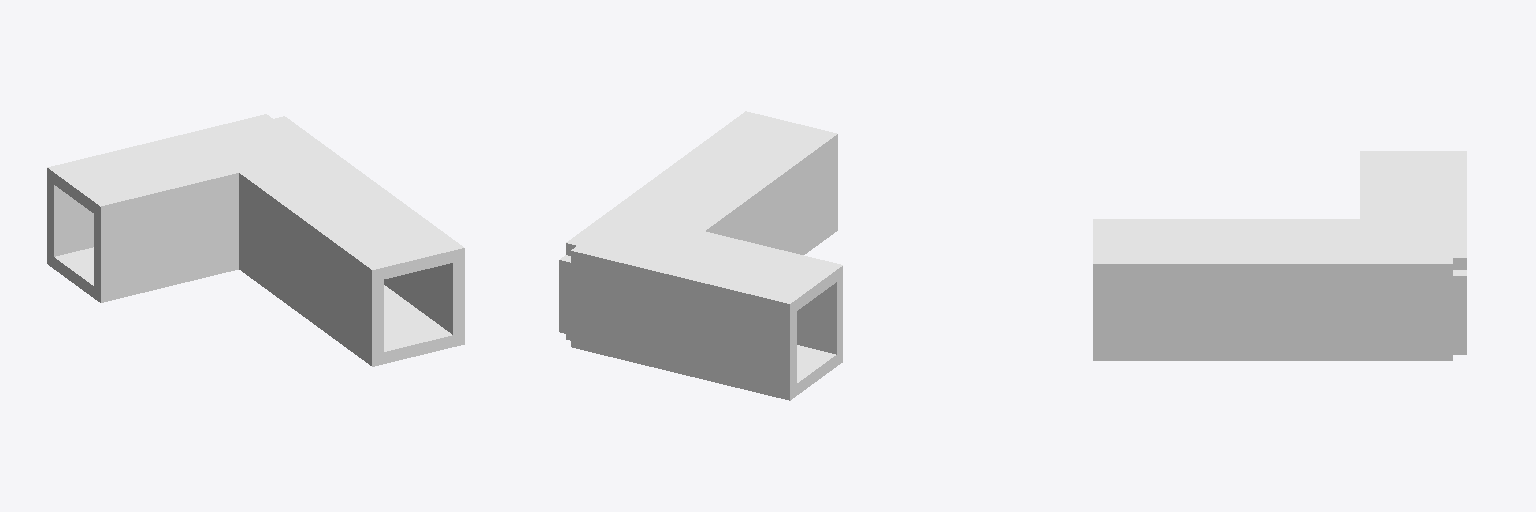
The model's file is humanoid-68.obj.
3 views of the same model, side by side, from view 1: azimuth 30°, elevation 25°; view 2: azimuth 150°, elevation 25°; view 3: azimuth 270°, elevation 25° (orthographic).
Visible parts, largest first — view 1: humanoid-68; view 2: humanoid-68; view 3: humanoid-68.
Part boxes in pixels (x1,y1,x2,y2): humanoid-68: (47, 114, 464, 366); humanoid-68: (559, 111, 842, 400); humanoid-68: (1093, 151, 1466, 360).
Size of the model in its own units: 20 by 8 by 28.